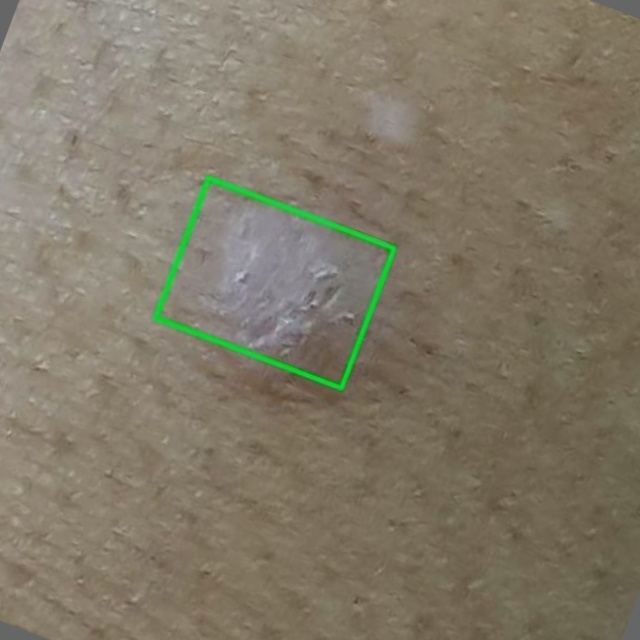Contact Dermatitis: (155, 178, 394, 388)
